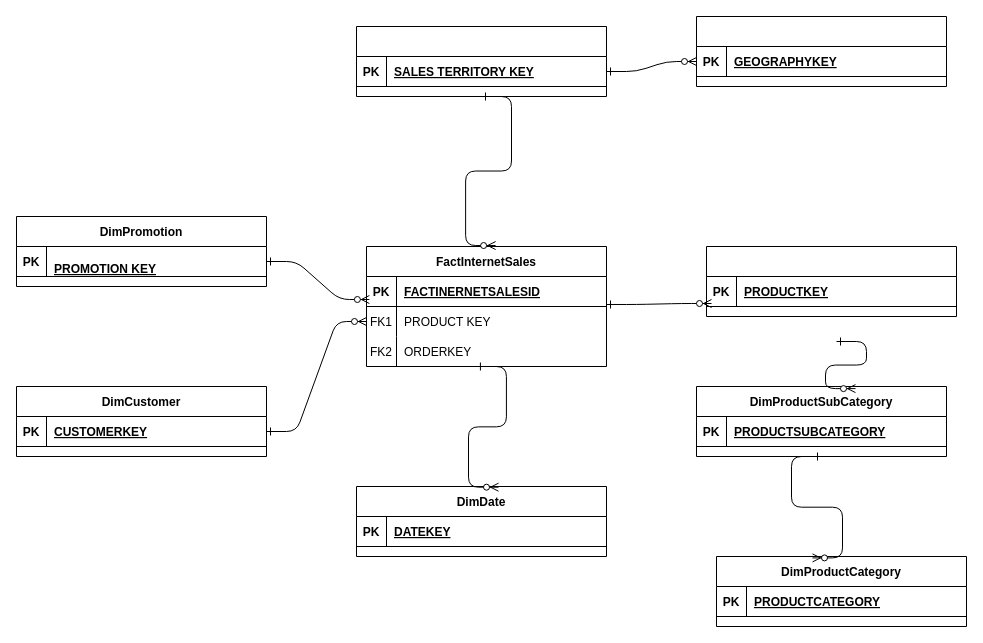
Some shapes in this 983 by 643 pixel diagram are drawn without their labels. The box of each missing label's shape, as (x1, y1, x2, y2) in pixels:
DimGeography: (696, 16, 946, 86)
DimProduct: (706, 246, 956, 316)
DimSalesTerritory: (356, 26, 606, 96)
